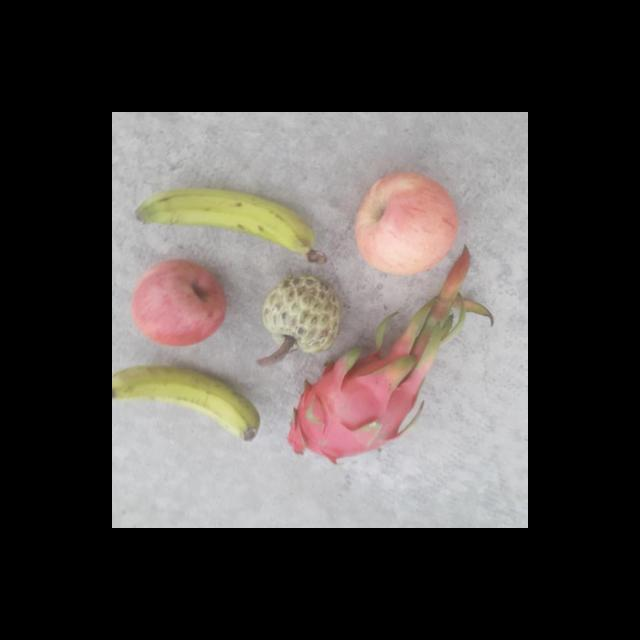Sakya fruit: (256, 278, 344, 356)
apple: (352, 174, 462, 280), (128, 256, 232, 350)
banana: (132, 182, 330, 270), (113, 361, 264, 450)
pitaya: (284, 336, 428, 466)
